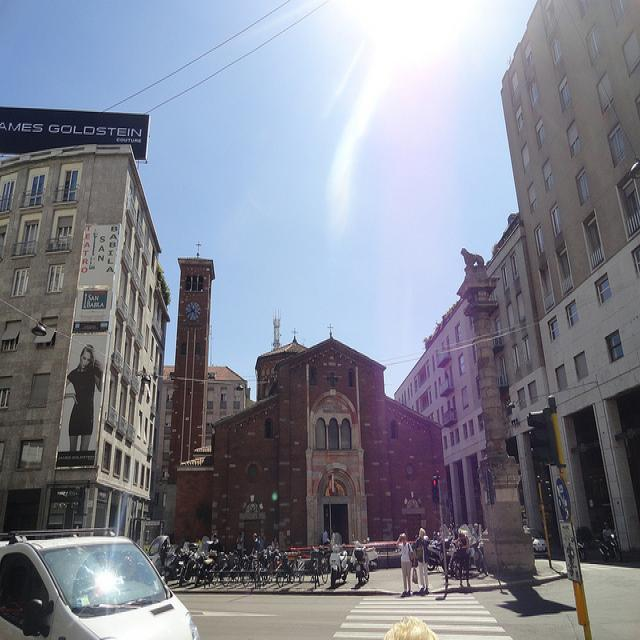motor: (323, 533, 349, 588), (594, 532, 623, 563), (192, 553, 216, 585), (178, 548, 197, 588), (162, 552, 185, 584), (353, 545, 370, 583), (444, 524, 456, 574), (427, 538, 445, 571), (576, 542, 587, 561)
